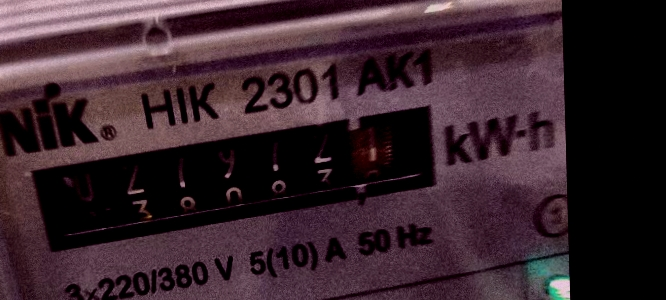0: (68, 166, 97, 202)
1: (360, 121, 383, 164)
2: (117, 155, 147, 195), (306, 126, 335, 164)
7: (259, 132, 286, 174), (167, 151, 191, 189)
9: (214, 143, 241, 178)
screen: (12, 94, 469, 261)
